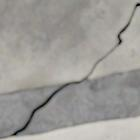brick: (3, 116, 139, 139)
broken_brick: (0, 0, 139, 92), (89, 7, 139, 78)
crack: (0, 1, 139, 139)
